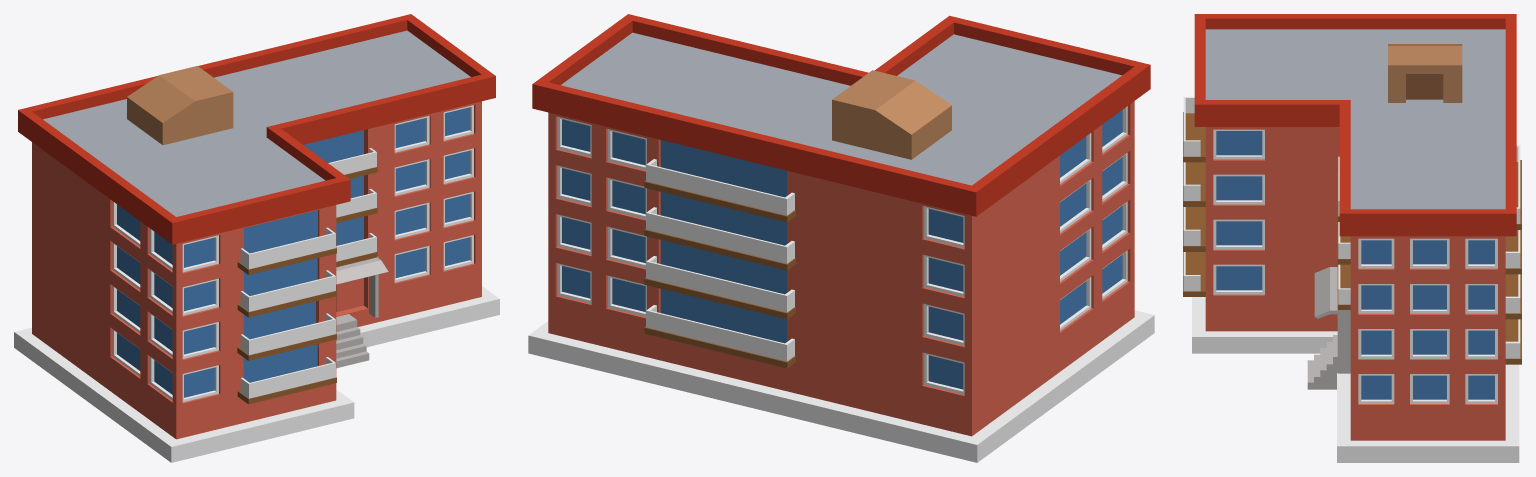
The model's file is Apartment_6.fbx.
3 views of the same model, side by side, from view 1: azimuth 30°, elevation 25°; view 2: azimuth 150°, elevation 25°; view 3: azimuth 270°, elevation 25° (orthographic). The views are drawn at different scales.
Parts seen in each view (by area): view 1: Apartment_6; view 2: Apartment_6; view 3: Apartment_6.
Boxes of the visible parts, bbox=[...] form: Apartment_6: bbox=[14, 14, 499, 462]; Apartment_6: bbox=[528, 14, 1154, 462]; Apartment_6: bbox=[1183, 14, 1521, 462].
Size of the model in its own units: 2119 by 1343 by 1500.
